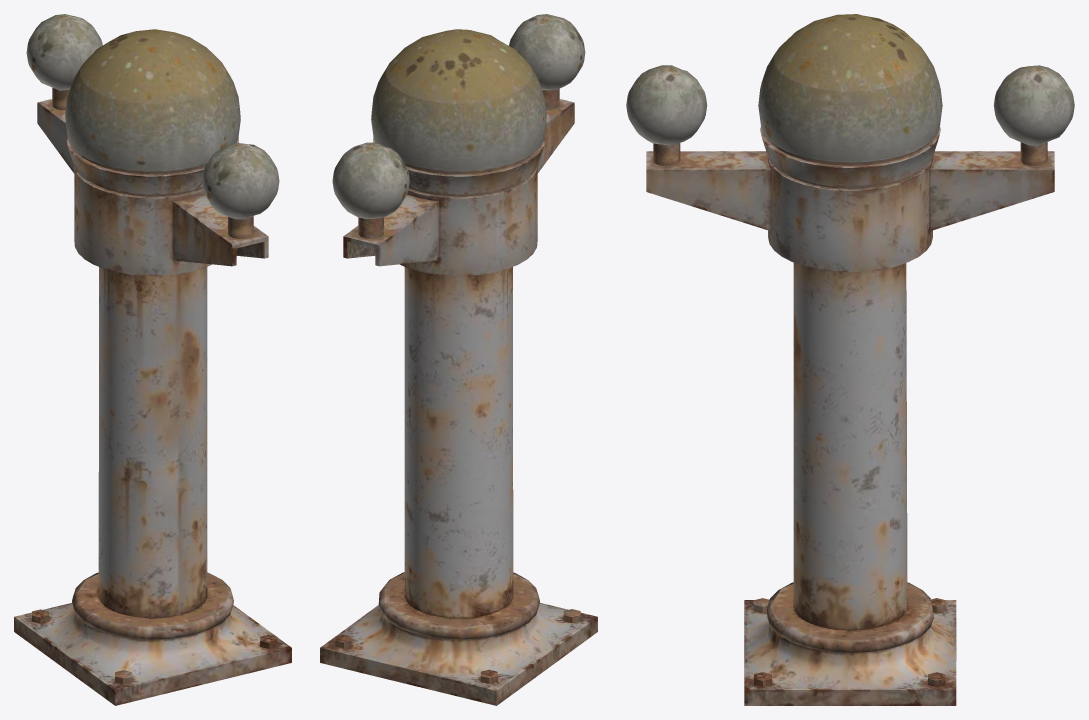
The model's file is ship_nautical_radar.glb.
The picture shows the model from 3 angles, left to right: view 1: azimuth 30°, elevation 25°; view 2: azimuth 150°, elevation 25°; view 3: azimuth 270°, elevation 25°; orthographic projection. The views are drawn at different scales.
Parts seen in each view (by area): view 1: ship_nautical_radar; view 2: ship_nautical_radar; view 3: ship_nautical_radar.
Boxes of the visible parts, x1,y1,x2,y2 form: ship_nautical_radar: [14, 14, 291, 705]; ship_nautical_radar: [320, 14, 597, 705]; ship_nautical_radar: [626, 14, 1074, 705].
Bounding box in the file's own units: 0.4159 × 1.37 × 0.8736.
Materials: 1 (1 with a texture image).
